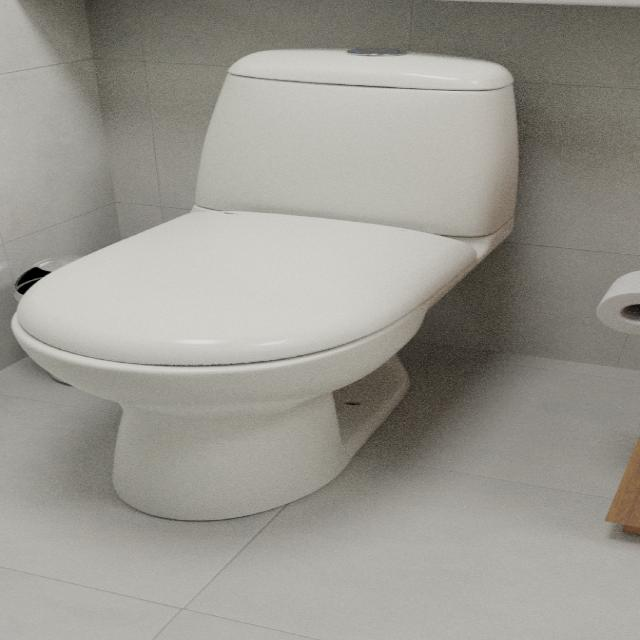toilet: (0, 41, 530, 529)
